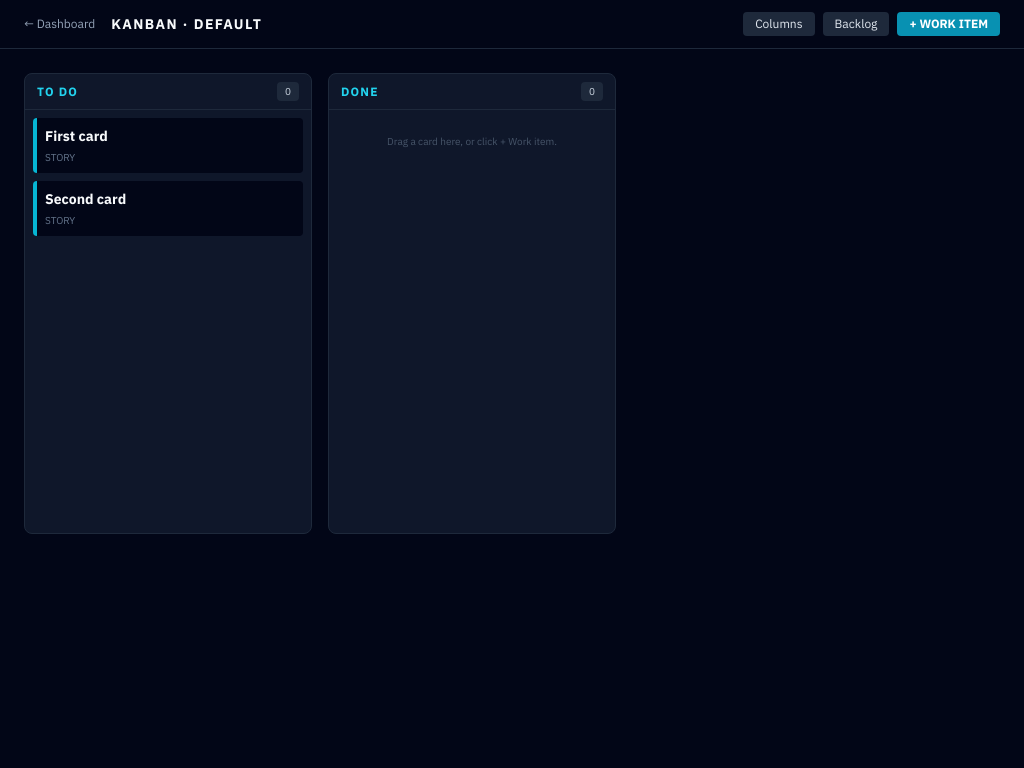
Test: KanbanBoard columns › shows renamed columns on the board after the column manager saves
The width and height of the screenshot is (1024, 768).
Check: the text "First card" is shown, box [45,127,108,145]
Click the button "Columns" at [779, 24], box [743,12,814,36]
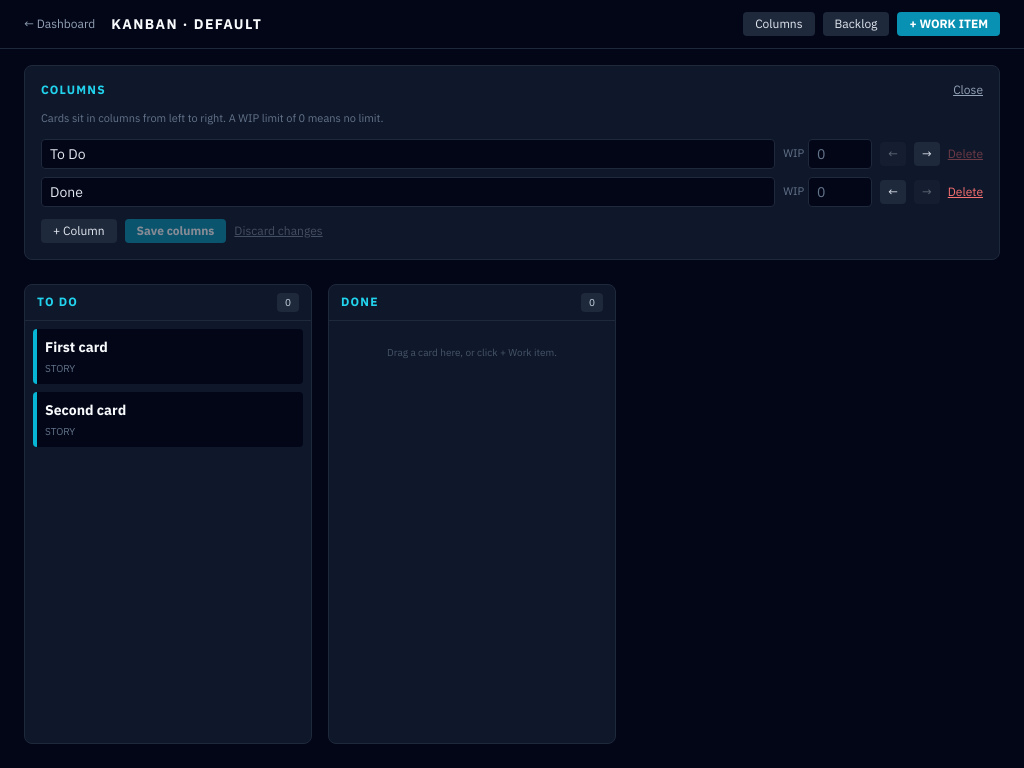
Replace the text in the 1st field named "Column 1 name" with "Ready" at [408, 154], box [41,138,775,168]
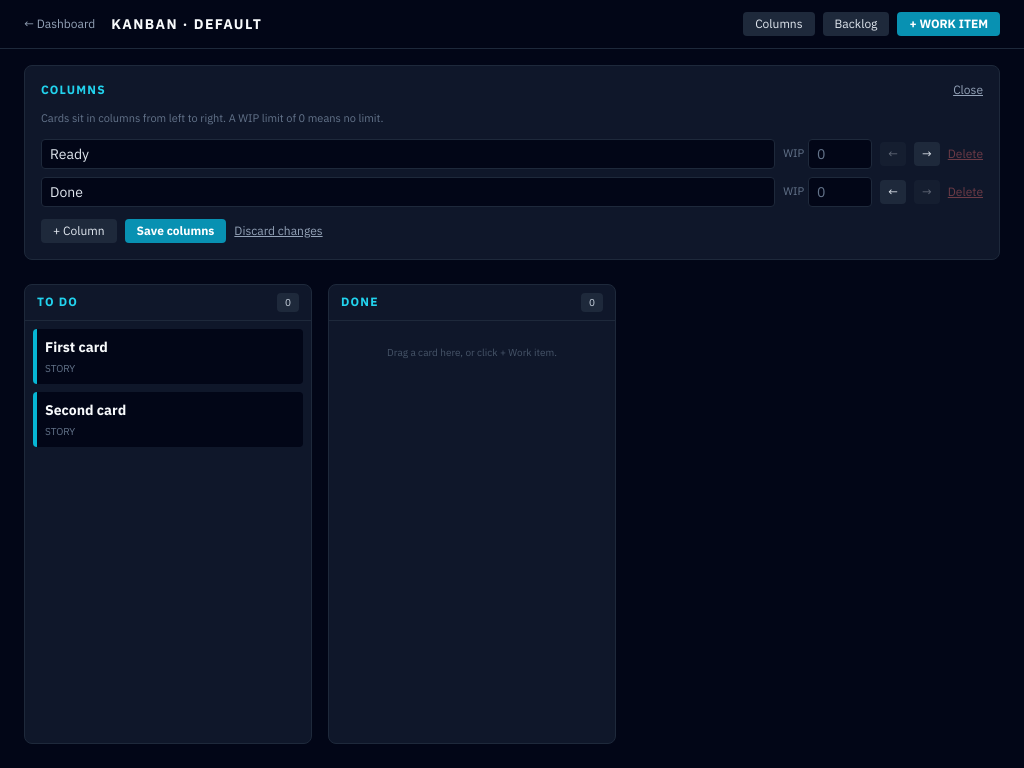
Click the button "Save columns" at [176, 230], box [125,218,226,242]
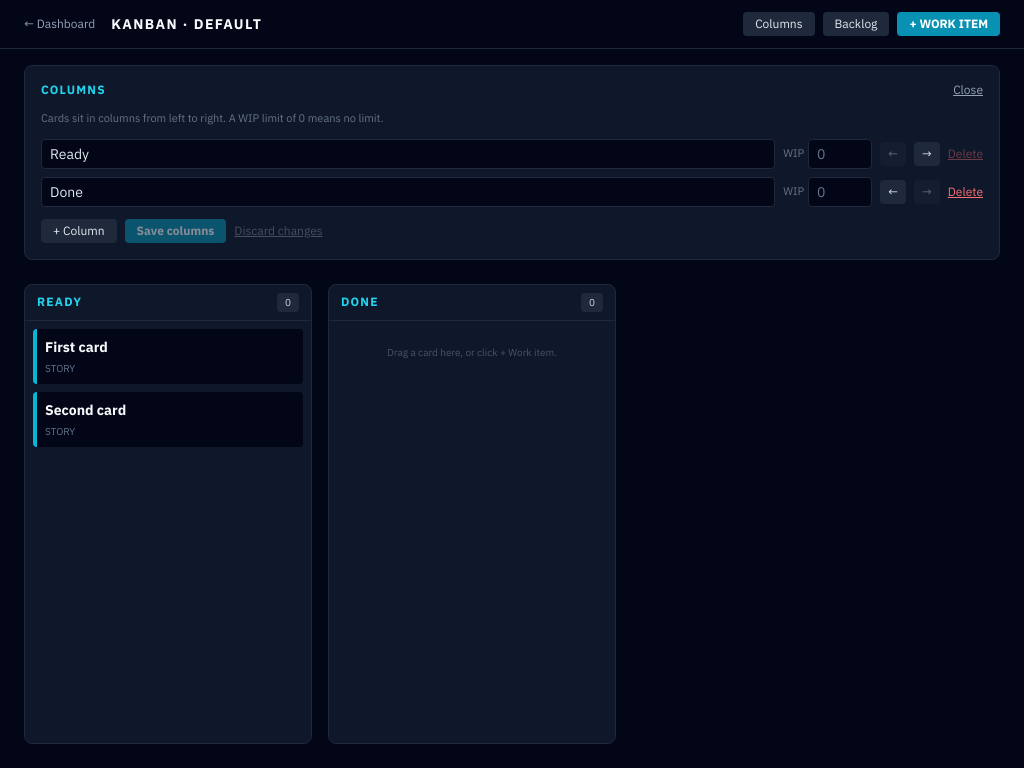
Check: the element named "Ready work items" is shown, box [24,284,312,744]
